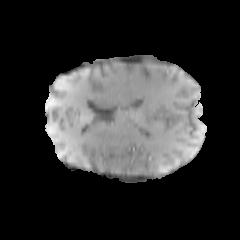glioma: (87, 142, 157, 177)
